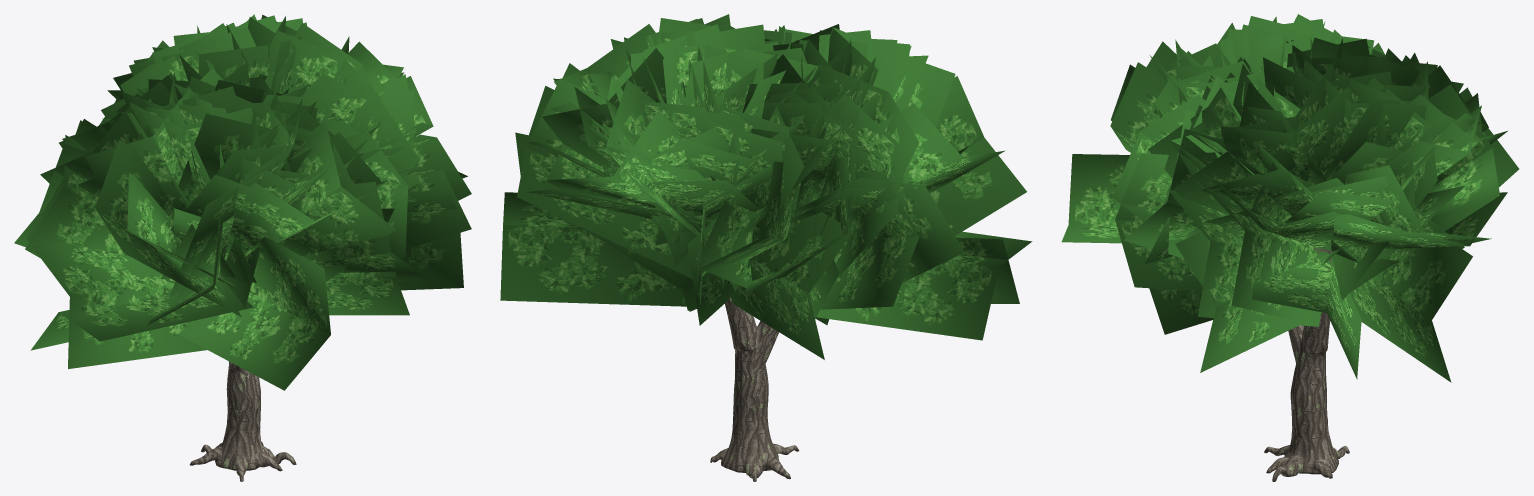
File: environment_elm5_v57.fbx
3 renders of one model, left to right at view 1: azimuth 30°, elevation 25°; view 2: azimuth 150°, elevation 25°; view 3: azimuth 270°, elevation 25°, orthographic. The views are drawn at different scales.
Visible parts, largest first — view 1: environment_elm5_v57_lod0; view 2: environment_elm5_v57_lod0; view 3: environment_elm5_v57_lod0.
Boxes of the visible parts, left/top/right/bottom form: environment_elm5_v57_lod0: left=14, top=14, right=471, bottom=481; environment_elm5_v57_lod0: left=500, top=14, right=1032, bottom=481; environment_elm5_v57_lod0: left=1061, top=14, right=1519, bottom=481.
Size of what is drawn, in the model's own units: 2751 by 2535 by 2486.
Materials: 2 (2 with a texture image).
